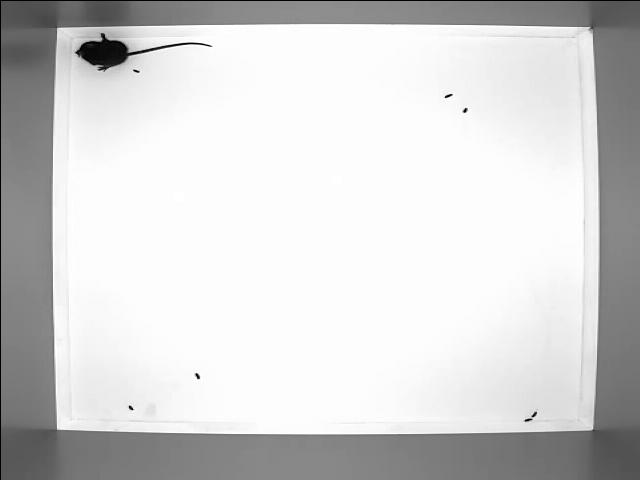Tikus: (61, 26, 216, 74)
